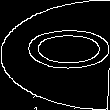O_E: (3, 33, 107, 77)
